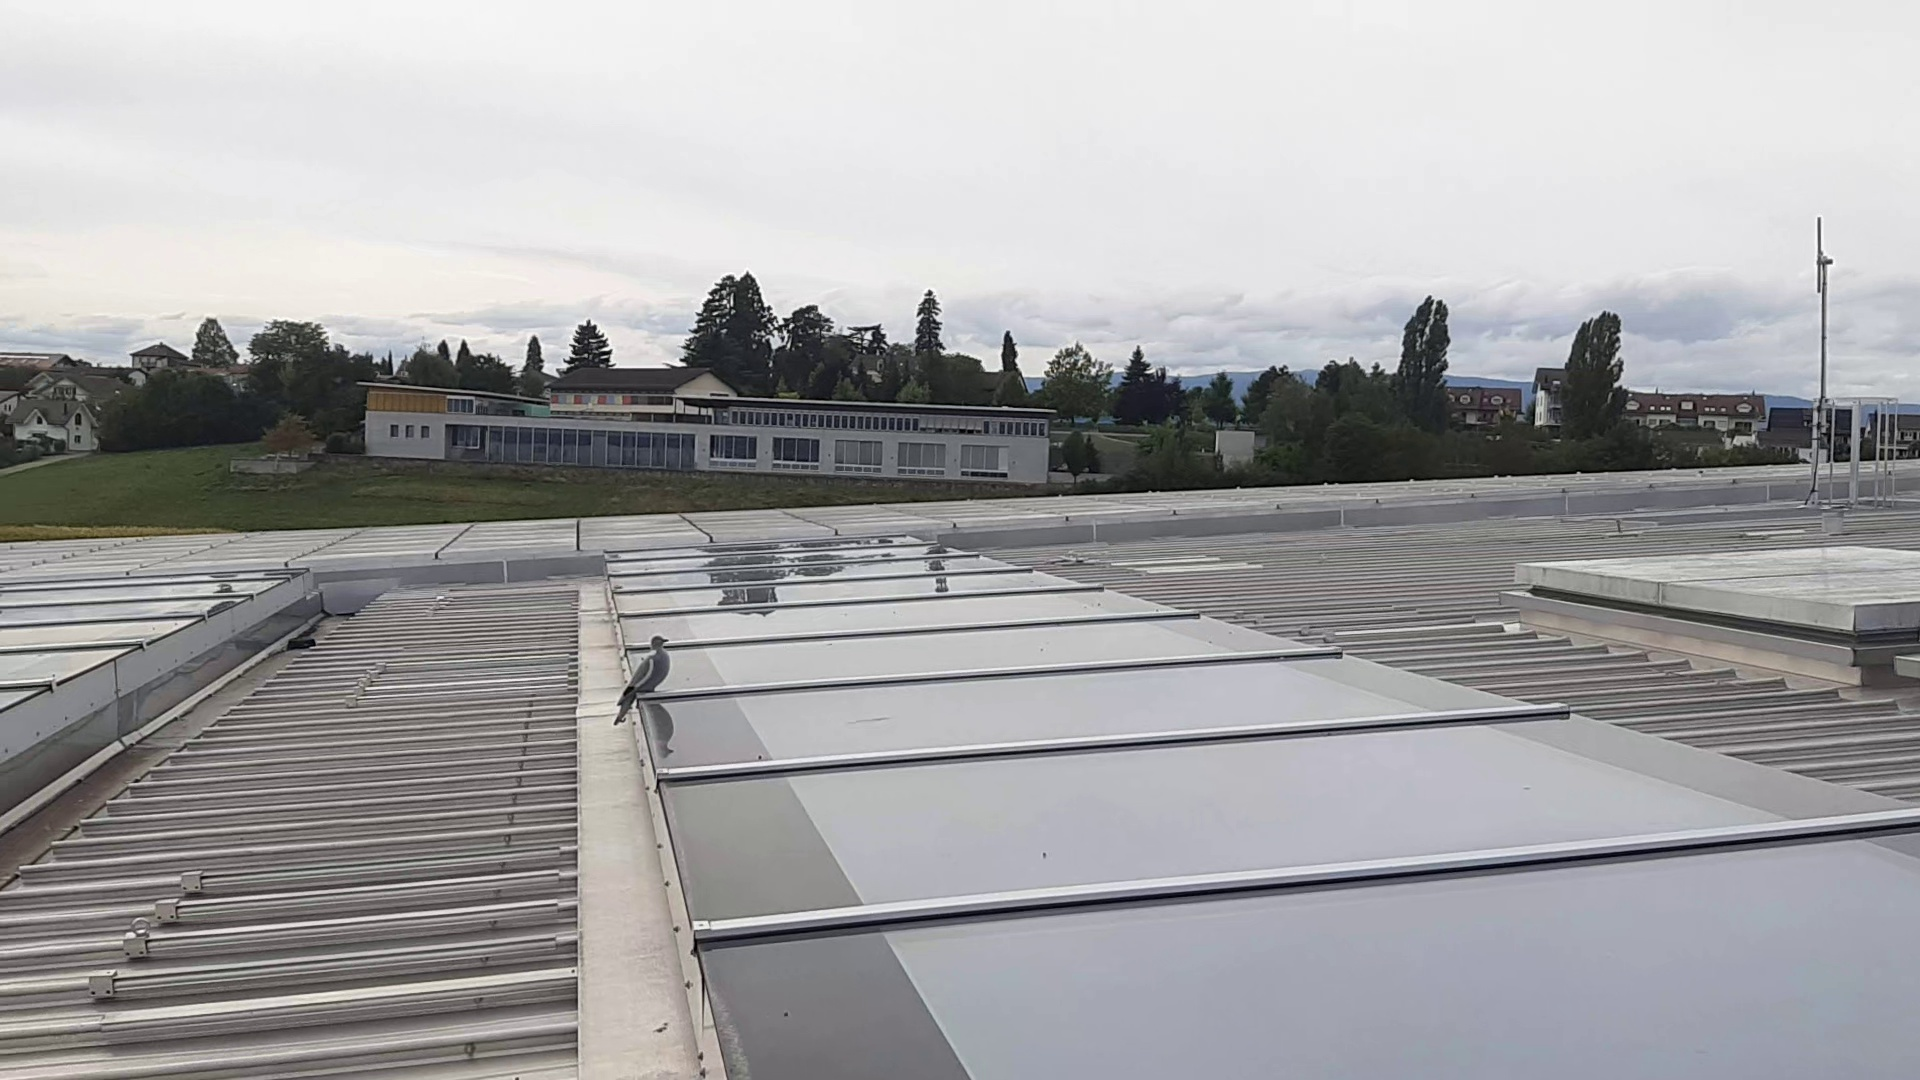Pigeon: (609, 626, 676, 715)
